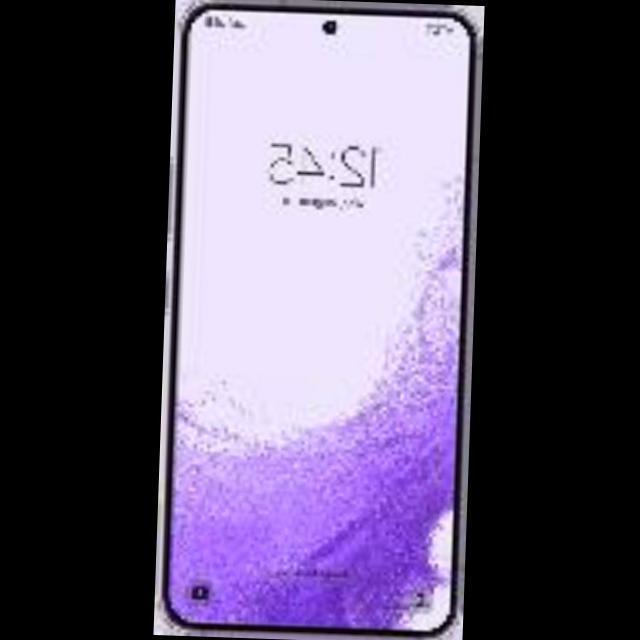mobile: (157, 0, 478, 640)
